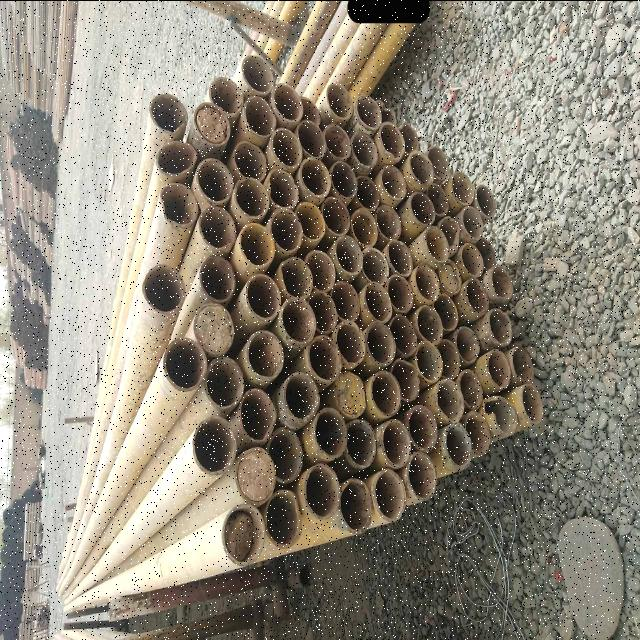pipe: (222, 500, 266, 566), (192, 414, 236, 476), (136, 260, 184, 316), (266, 486, 302, 554), (162, 337, 206, 392), (302, 461, 340, 521), (238, 446, 274, 508), (196, 302, 236, 356), (206, 352, 242, 407), (340, 471, 370, 537), (197, 202, 236, 252), (266, 428, 302, 482), (158, 182, 196, 232), (240, 388, 276, 440), (246, 328, 282, 380), (146, 88, 186, 134), (198, 251, 236, 299), (376, 468, 406, 528), (156, 135, 196, 179), (312, 408, 348, 456), (280, 296, 316, 344), (344, 416, 376, 470), (282, 372, 316, 422), (306, 331, 340, 381), (196, 156, 232, 202), (238, 220, 274, 266), (378, 419, 412, 467), (244, 275, 282, 317), (368, 369, 401, 417), (334, 368, 366, 416), (192, 102, 230, 142), (230, 142, 268, 182), (296, 156, 332, 198), (408, 451, 436, 503), (232, 177, 268, 217), (442, 422, 472, 469), (304, 248, 336, 292), (408, 404, 436, 454), (242, 95, 276, 136), (272, 207, 302, 253), (268, 126, 302, 166), (270, 80, 304, 120), (280, 254, 312, 296), (336, 318, 364, 366), (416, 340, 442, 390), (206, 74, 242, 110), (240, 54, 274, 92), (296, 200, 324, 246), (436, 376, 464, 422), (330, 279, 360, 321), (486, 262, 516, 304), (520, 378, 546, 426), (368, 320, 396, 364), (358, 246, 390, 284), (268, 168, 298, 208), (482, 307, 512, 347), (392, 359, 418, 404), (486, 346, 512, 391), (332, 235, 361, 275), (322, 80, 354, 116), (490, 396, 516, 440), (306, 291, 336, 329), (414, 262, 442, 302), (466, 409, 488, 459), (390, 314, 416, 356), (330, 158, 358, 196), (298, 118, 324, 158), (380, 160, 406, 200), (322, 198, 352, 232), (408, 189, 436, 225), (436, 338, 460, 380), (456, 324, 480, 366), (456, 240, 484, 276), (378, 121, 403, 161), (349, 208, 376, 244), (356, 91, 382, 128), (398, 116, 422, 156), (458, 371, 482, 411), (324, 123, 352, 157), (364, 284, 392, 318), (417, 304, 442, 342), (350, 130, 376, 166), (439, 258, 462, 298), (388, 276, 412, 314), (434, 296, 458, 334), (424, 224, 449, 260), (384, 240, 412, 272), (352, 174, 378, 208), (512, 342, 534, 382), (428, 142, 451, 180), (464, 274, 488, 310), (294, 92, 320, 125), (408, 150, 432, 184), (450, 168, 474, 202), (474, 235, 496, 272), (442, 212, 460, 254), (378, 204, 400, 238), (428, 183, 450, 217), (476, 182, 498, 216), (376, 96, 400, 126), (462, 205, 482, 239)
